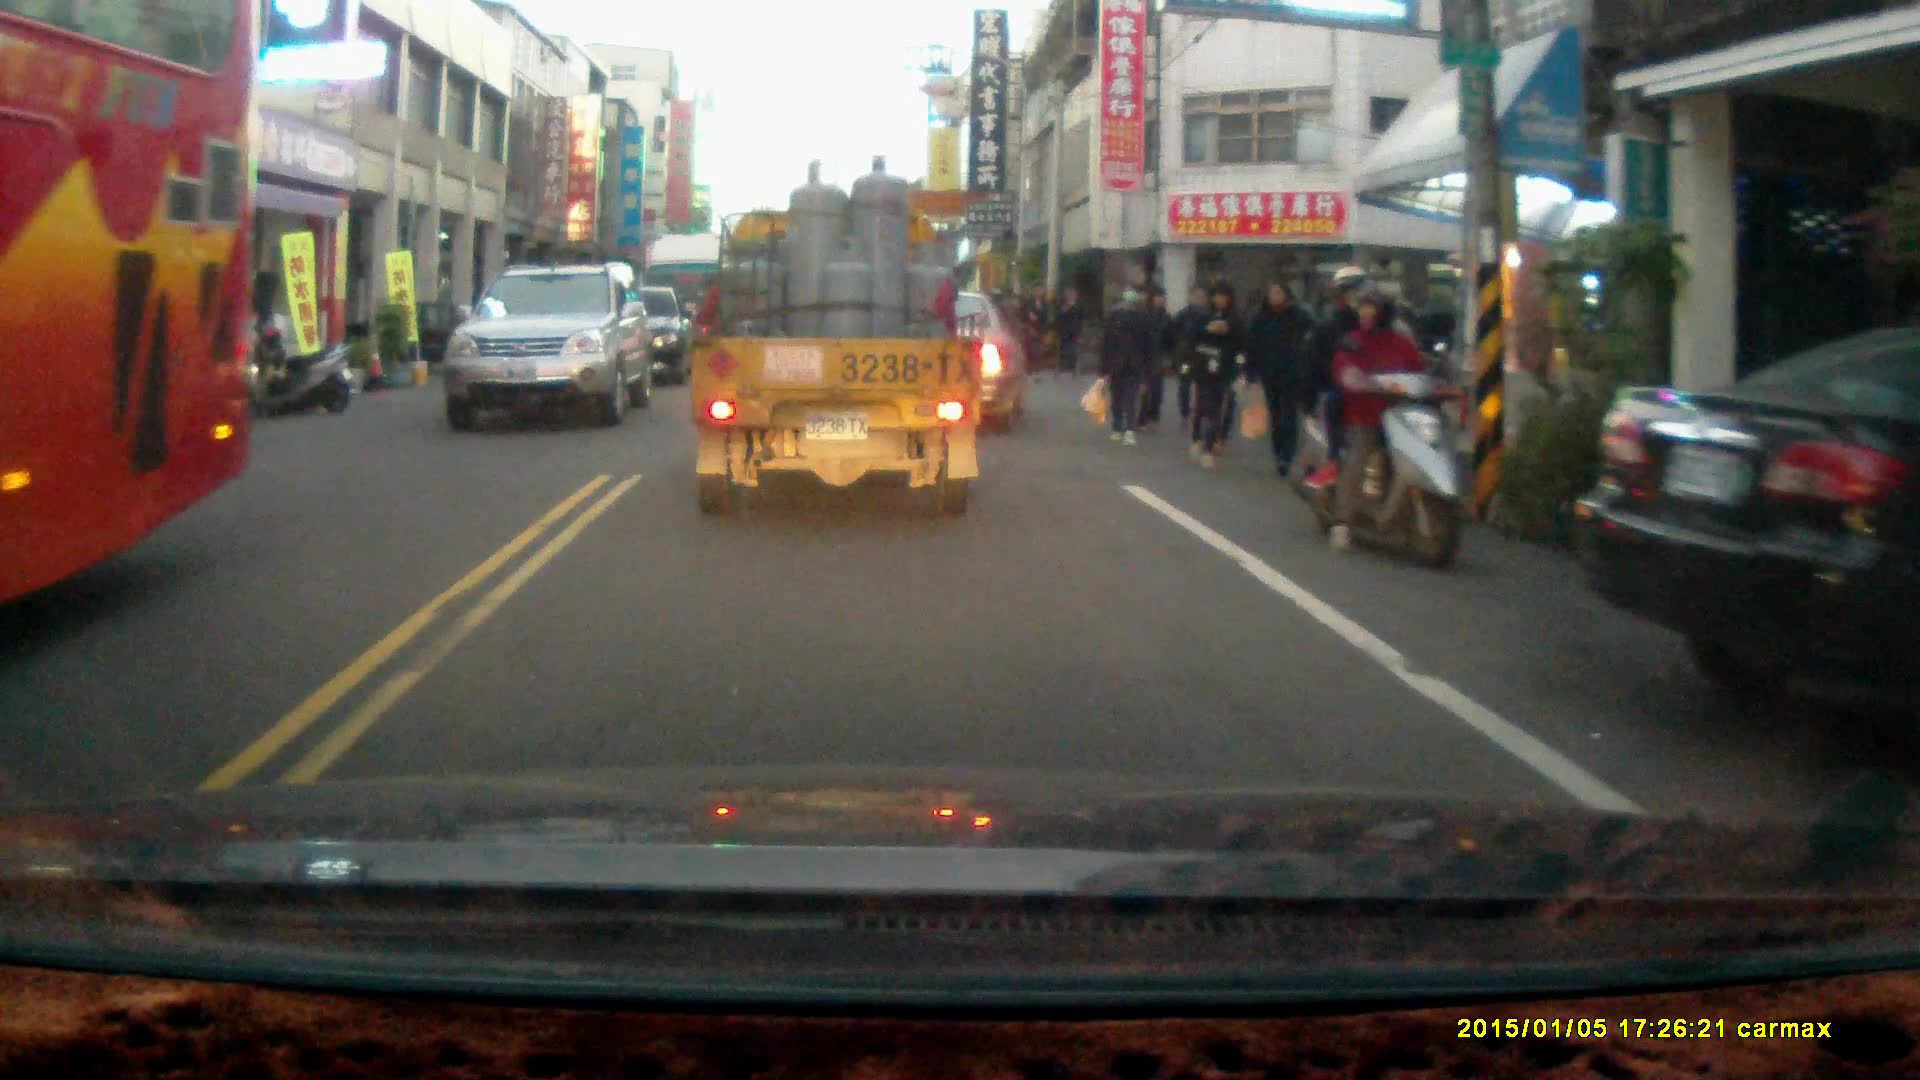pedestrian: (1239, 277, 1316, 471), (1185, 279, 1242, 468), (1096, 281, 1151, 448), (1168, 284, 1227, 432), (1129, 286, 1175, 432), (1050, 280, 1085, 379), (1020, 279, 1056, 376)
rider: (1283, 258, 1466, 562)
vehicle: (1, 7, 259, 631), (1589, 332, 1920, 745), (686, 153, 986, 523), (801, 285, 1037, 436), (447, 262, 656, 430)
